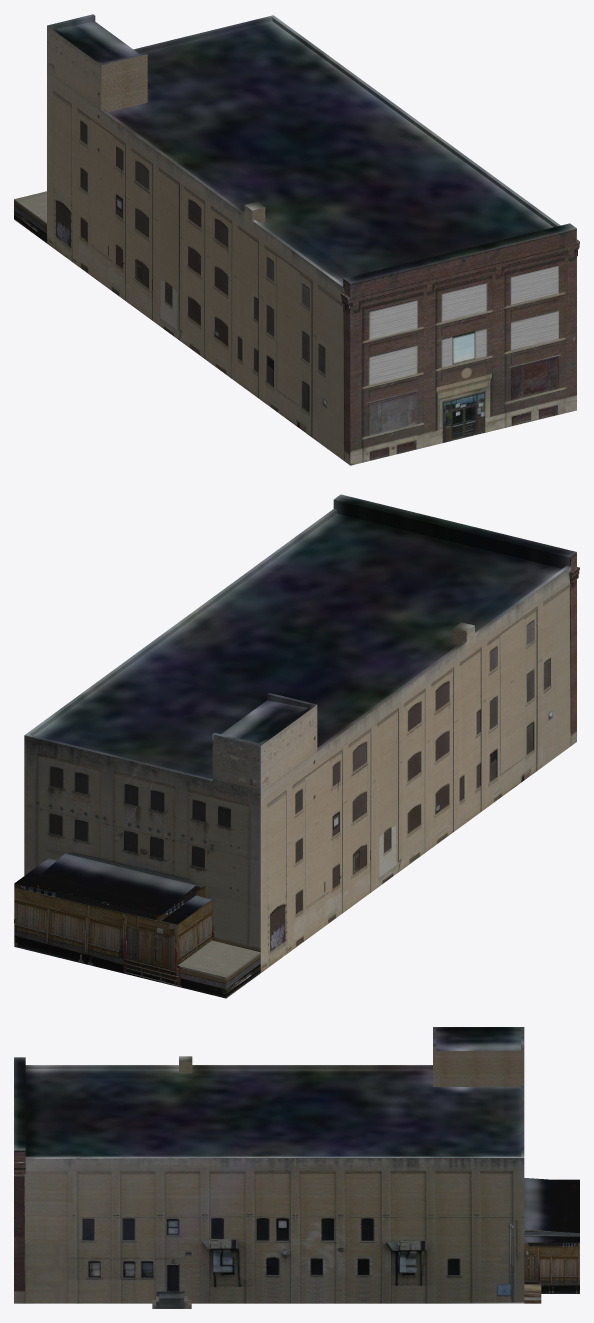
The model's file is Building2.dae.
3 views of the same model, one above another, from view 1: azimuth 30°, elevation 25°; view 2: azimuth 150°, elevation 25°; view 3: azimuth 270°, elevation 25° (orthographic). The views are drawn at different scales.
Visible parts, largest first — view 1: Laird_Building (×6); view 2: Laird_Building (×6); view 3: Laird_Building (×7).
Part boxes in pixels (x1,y1,x2,y2): Laird_Building (×6): [14, 14, 579, 465]; Laird_Building (×6): [14, 494, 576, 998]; Laird_Building (×7): [14, 1027, 579, 1308].
Bounding box in the file's own units: 669 × 1608 × 575.
17 materials, 17 textured.
